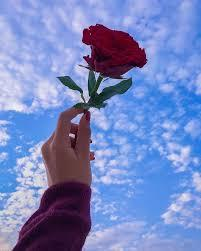Rose: (77, 12, 156, 87)
